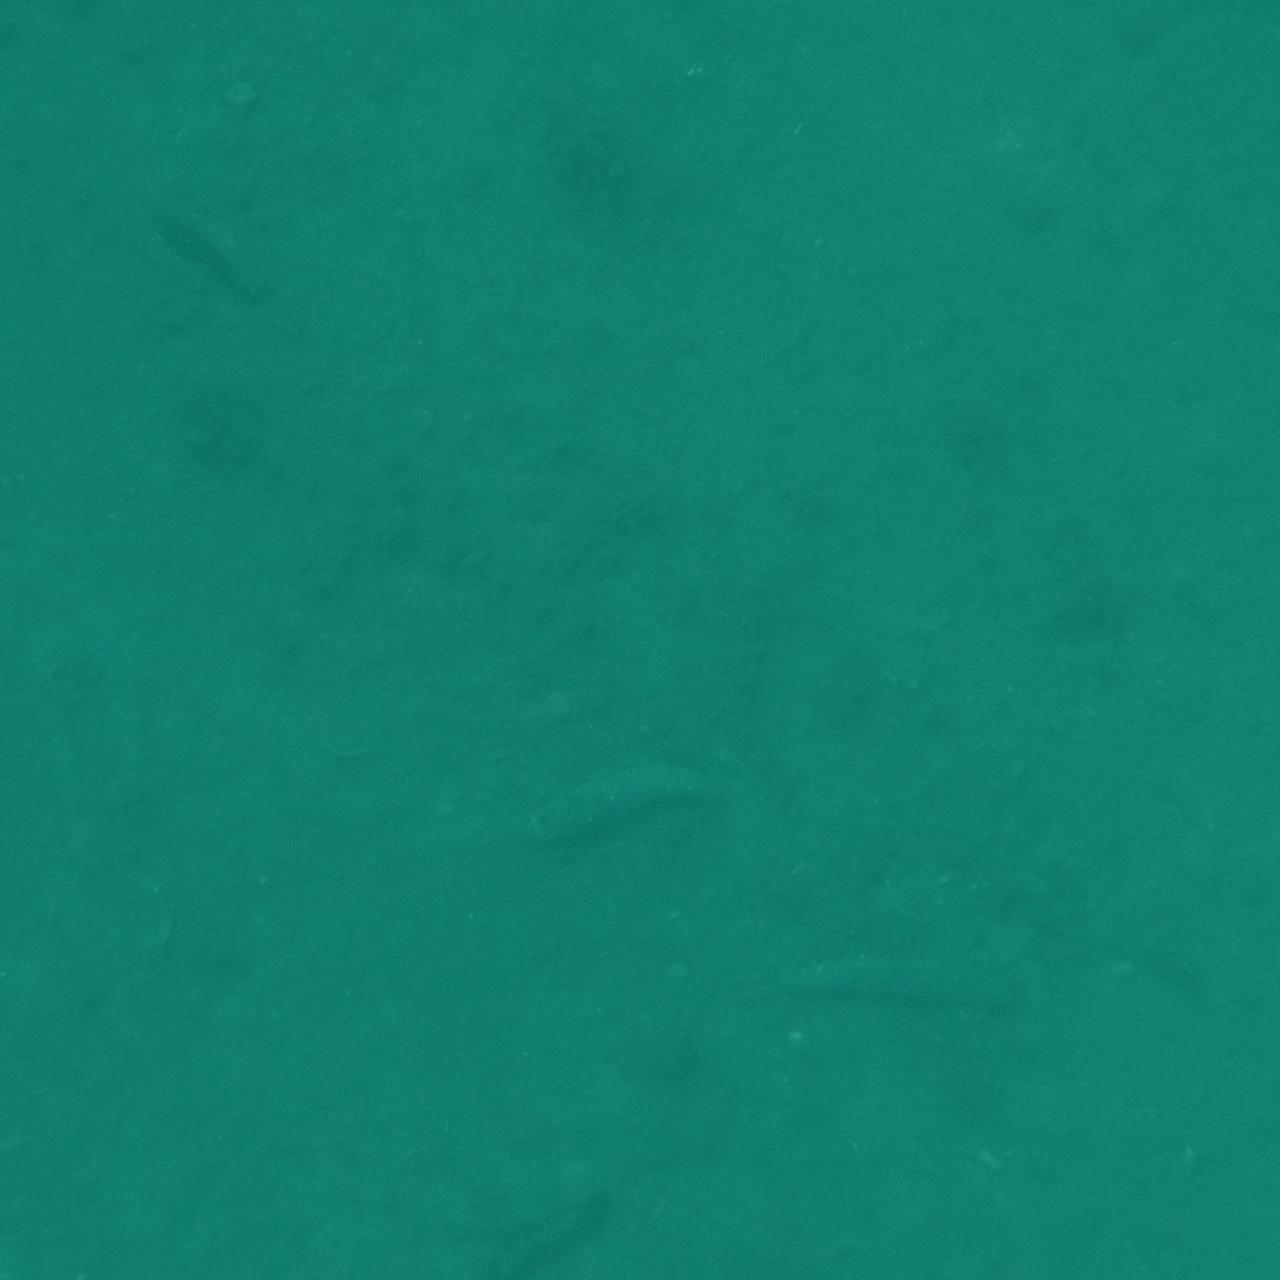Holothuria tubulosa: (121, 171, 305, 350), (484, 729, 715, 870), (735, 937, 1061, 1024), (411, 1171, 636, 1280), (0, 968, 109, 1131), (0, 688, 87, 878), (1167, 68, 1280, 196), (1119, 859, 1280, 947), (0, 319, 87, 474), (0, 1164, 113, 1280), (1219, 459, 1280, 667), (1185, 0, 1280, 113), (0, 0, 156, 62), (1193, 0, 1280, 107), (241, 1191, 345, 1280), (0, 1197, 103, 1280), (0, 0, 109, 79), (0, 0, 103, 72), (0, 1157, 56, 1280), (0, 0, 82, 82), (1214, 0, 1280, 95), (0, 1218, 91, 1280), (1205, 0, 1280, 60)
Rifiuto: (0, 1172, 144, 1280)
